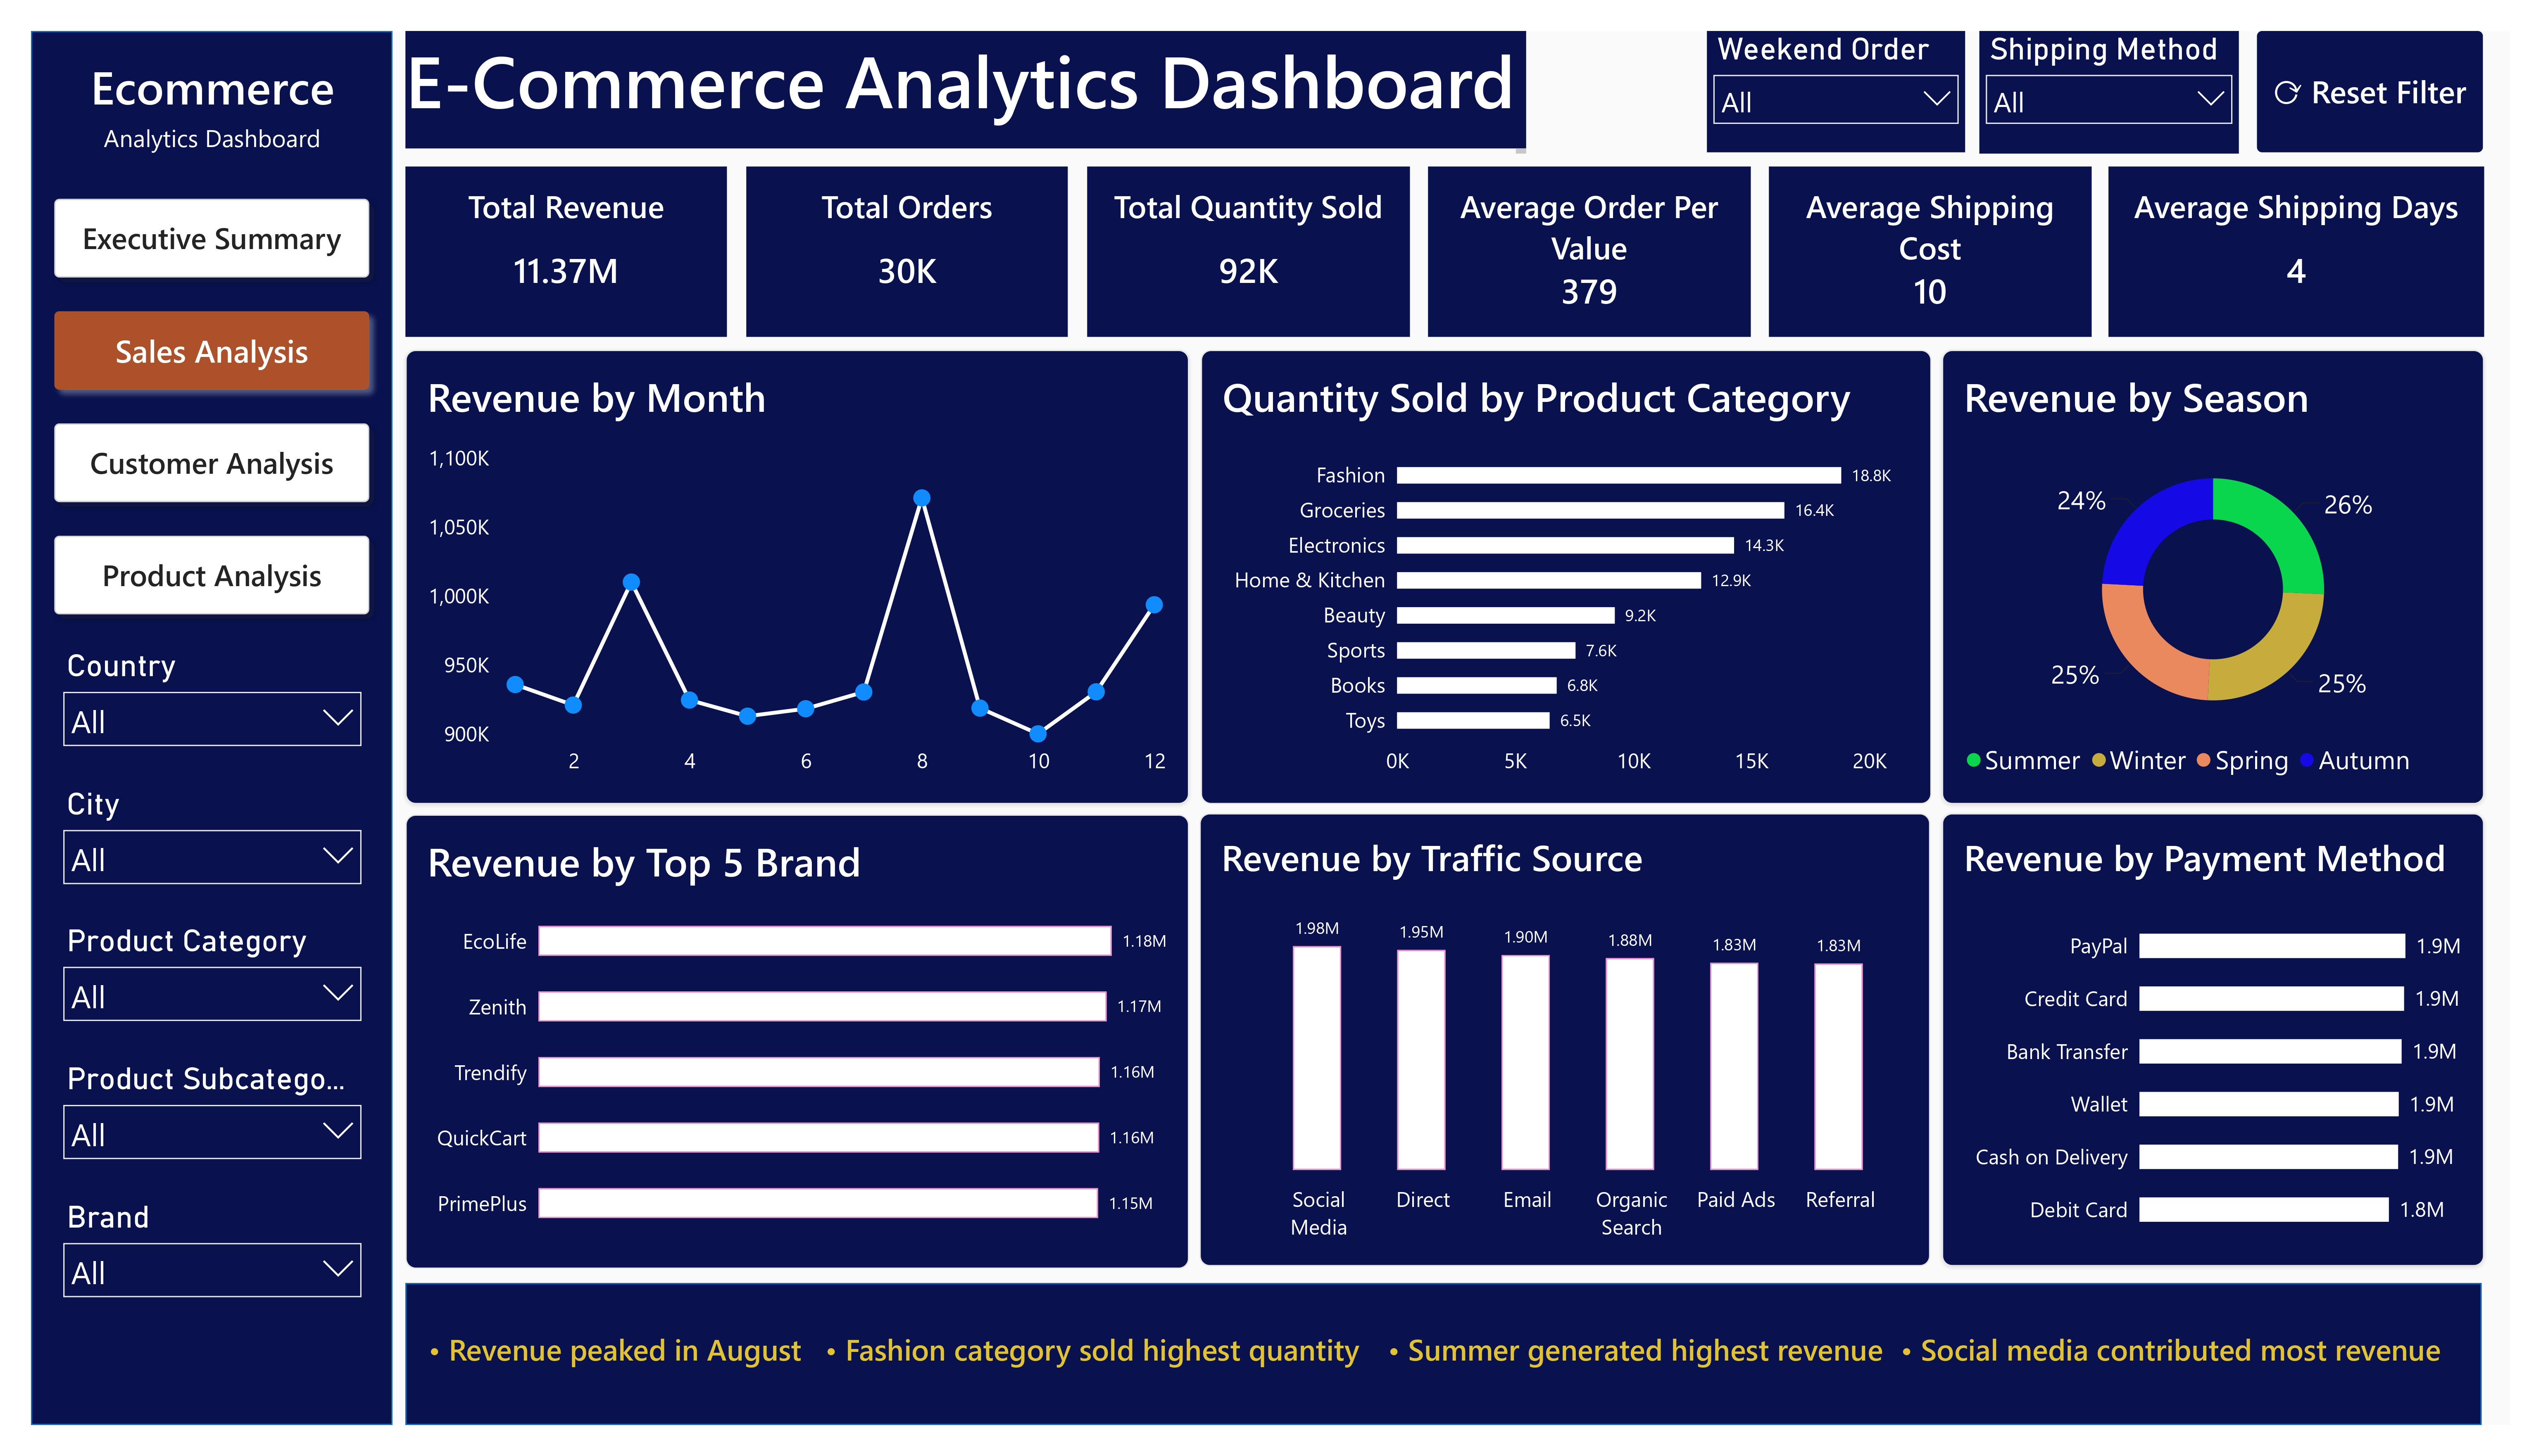

This screenshot's page, from the dashboard's own definition file:
{"tool":"powerbi","page":{"name":"Sales Analysis","canvas":[1920,1080],"ordinal":1},"visuals":[{"type":"shape","box":[0,0,279.9,1080],"z":0},{"type":"textbox","title":"Ecommerce","box":[19.9,18.1,240.7,86.9],"z":1000},{"type":"pageNavigator","box":[9,121.2,262.4,340.2],"z":2000},{"type":"textbox","title":"E-Commerce Analytics Dashboard","box":[289.5,0,868.6,95],"z":3000},{"type":"slicer","fields":{"Values":["Ecommerce_DB.Country"]},"box":[19.9,477.8,240.7,92.3],"z":4000},{"type":"slicer","fields":{"Values":["Ecommerce_DB.City"]},"box":[19.9,584.5,240.7,92.3],"z":5000},{"type":"slicer","fields":{"Values":["Ecommerce_DB.Product_Category"]},"box":[19.9,691.3,240.7,92.3],"z":6000},{"type":"slicer","fields":{"Values":["Ecommerce_DB.Product_Subcategory"]},"box":[19.9,798.1,240.7,92.3],"z":7000},{"type":"slicer","fields":{"Values":["Ecommerce_DB.Brand"]},"box":[19.9,904.8,240.7,92.3],"z":8000},{"type":"shape","title":"Executive Insights","box":[289.5,970,1608.8,110.4],"z":9000},{"type":"card","title":"Total Revenue","fields":{"Values":["Table.Total_Revenue"]},"box":[289.5,105,249.7,132.1],"z":10000},{"type":"card","title":"Total Orders","fields":{"Values":["Table.Total_Orders"]},"box":[553.8,105,249.7,132.1],"z":11000},{"type":"card","title":"Total Quantity Sold","fields":{"Values":["Table.total_quantity_sold"]},"box":[818,105,249.7,132.1],"z":12000},{"type":"card","title":"Average Order Per Value","fields":{"Values":["Table.Average Order Value"]},"box":[1082.2,105,249.7,132.1],"z":13000},{"type":"card","title":"Average Shipping Cost","fields":{"Values":["Table.Average_Shiping_Cost"]},"box":[1346.4,105,249.7,132.1],"z":14000},{"type":"card","title":"Average Shipping Days","fields":{"Values":["Table.Average_Shipping-Days"]},"box":[1608.8,105,291.4,132.1],"z":15000},{"type":"lineChart","title":"Revenue by Month","fields":{"Category":["Ecommerce_DB.Month"],"Y":["Sum(Ecommerce_DB.Order_Amount)"]},"box":[290.2,247,607.2,352],"z":16000},{"type":"barChart","title":"Quantity Sold by Product Category","fields":{"Category":["Ecommerce_DB.Product_Category"],"Y":["Sum(Ecommerce_DB.Quantity)"]},"box":[905.7,247,566,352],"z":17000},{"type":"donutChart","title":"Revenue by Season","fields":{"Category":["Ecommerce_DB.Season"],"Y":["Sum(Ecommerce_DB.Order_Amount)"]},"box":[1479.9,247,419.9,352],"z":18000},{"type":"barChart","title":"Revenue by Top 5 Brand","fields":{"Category":["Ecommerce_DB.Brand"],"Y":["Sum(Ecommerce_DB.Order_Amount)"]},"box":[290.2,607.2,607.2,352],"z":19000},{"type":"columnChart","title":"Revenue by Traffic Source","fields":{"Category":["Ecommerce_DB.Traffic_Source"],"Y":["Sum(Ecommerce_DB.Order_Amount)"]},"box":[904.8,606.2,566.4,351.1],"z":20000},{"type":"barChart","title":"Revenue by Payment Method","fields":{"Category":["Ecommerce_DB.Payment_Method"],"Y":["Sum(Ecommerce_DB.Order_Amount)"]},"box":[1480,606,420,351],"z":21000},{"type":"textbox","title":"• Revenue peaked in August","box":[307.6,1006.2,304,39.8],"z":22000},{"type":"textbox","title":"• Fashion category sold highest quantity","box":[615.3,1006.2,432.5,39.8],"z":23000},{"type":"textbox","title":"• Summer generated highest revenue","box":[1051.4,1006.2,392.7,39.8],"z":24000},{"type":"textbox","title":"• Social media contributed most revenue","box":[1447.7,1006.2,428.9,39.8],"z":25000},{"type":"slicer","title":"Shipping Method","fields":{"Values":["Ecommerce_DB.Shipping_Method"]},"box":[1509.3,0,200.9,95],"z":26000},{"type":"slicer","title":"Weekend Order","fields":{"Values":["Ecommerce_DB.Weekend_Order"]},"box":[1297.5,0,200.9,94.1],"z":27000},{"type":"actionButton","box":[1723.8,0,175.3,93.9],"z":28000}]}

Visuals, with their boxes on the page's 1920x1080 design canvas (x1, y1, x2, y2). These are canvas units, not pixel positions in the 2541x1456 screenshot, which may show the page scaled, cropped or inside an application window:
shape: bbox(0, 0, 280, 1080)
"Ecommerce" textbox: bbox(20, 18, 261, 105)
pageNavigator: bbox(9, 121, 271, 461)
"E-Commerce Analytics Dashboard" textbox: bbox(290, 0, 1158, 95)
slicer - Ecommerce_DB.Country: bbox(20, 478, 261, 570)
slicer - Ecommerce_DB.City: bbox(20, 584, 261, 677)
slicer - Ecommerce_DB.Product_Category: bbox(20, 691, 261, 784)
slicer - Ecommerce_DB.Product_Subcategory: bbox(20, 798, 261, 890)
slicer - Ecommerce_DB.Brand: bbox(20, 905, 261, 997)
"Executive Insights" shape: bbox(290, 970, 1898, 1080)
"Total Revenue" card: bbox(290, 105, 539, 237)
"Total Orders" card: bbox(554, 105, 804, 237)
"Total Quantity Sold" card: bbox(818, 105, 1068, 237)
"Average Order Per Value" card: bbox(1082, 105, 1332, 237)
"Average Shipping Cost" card: bbox(1346, 105, 1596, 237)
"Average Shipping Days" card: bbox(1609, 105, 1900, 237)
"Revenue by Month" lineChart: bbox(290, 247, 897, 599)
"Quantity Sold by Product Category" barChart: bbox(906, 247, 1472, 599)
"Revenue by Season" donutChart: bbox(1480, 247, 1900, 599)
"Revenue by Top 5 Brand" barChart: bbox(290, 607, 897, 959)
"Revenue by Traffic Source" columnChart: bbox(905, 606, 1471, 957)
"Revenue by Payment Method" barChart: bbox(1480, 606, 1900, 957)
"• Revenue peaked in August" textbox: bbox(308, 1006, 612, 1046)
"• Fashion category sold highest quantity" textbox: bbox(615, 1006, 1048, 1046)
"• Summer generated highest revenue" textbox: bbox(1051, 1006, 1444, 1046)
"• Social media contributed most revenue" textbox: bbox(1448, 1006, 1877, 1046)
"Shipping Method" slicer: bbox(1509, 0, 1710, 95)
"Weekend Order" slicer: bbox(1298, 0, 1498, 94)
actionButton: bbox(1724, 0, 1899, 94)
